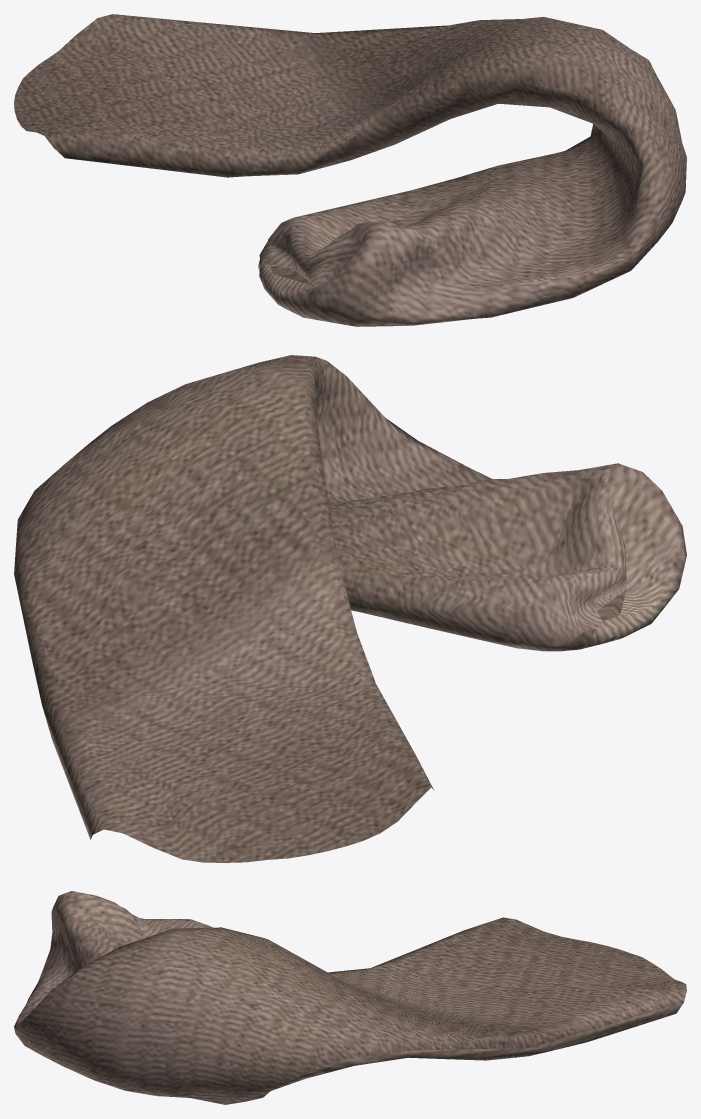
File: toy_sock_knit.glb
The picture shows the model from 3 angles, top to bottom: view 1: azimuth 30°, elevation 25°; view 2: azimuth 150°, elevation 25°; view 3: azimuth 270°, elevation 25°; orthographic projection. The views are drawn at different scales.
Parts seen in each view (by area): view 1: toy_sock_knit; view 2: toy_sock_knit; view 3: toy_sock_knit.
Boxes of the visible parts, left/top/right/bottom form: toy_sock_knit: left=14, top=14, right=686, bottom=326; toy_sock_knit: left=14, top=355, right=686, bottom=862; toy_sock_knit: left=14, top=891, right=686, bottom=1104.
Size of the model in its own units: 4.76 by 1.58 by 7.01.
Materials: 1 (1 with a texture image).
